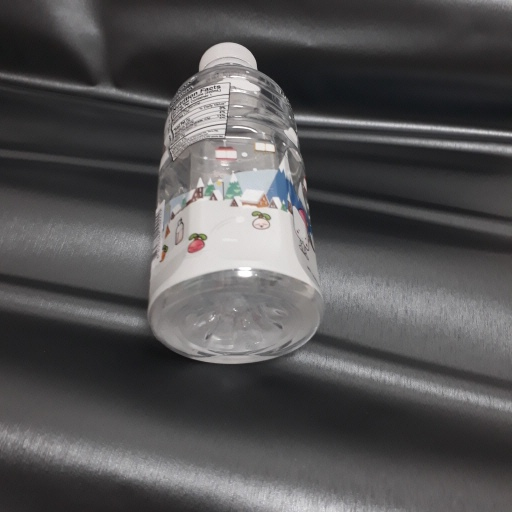Plastic_0: (144, 41, 326, 366)
